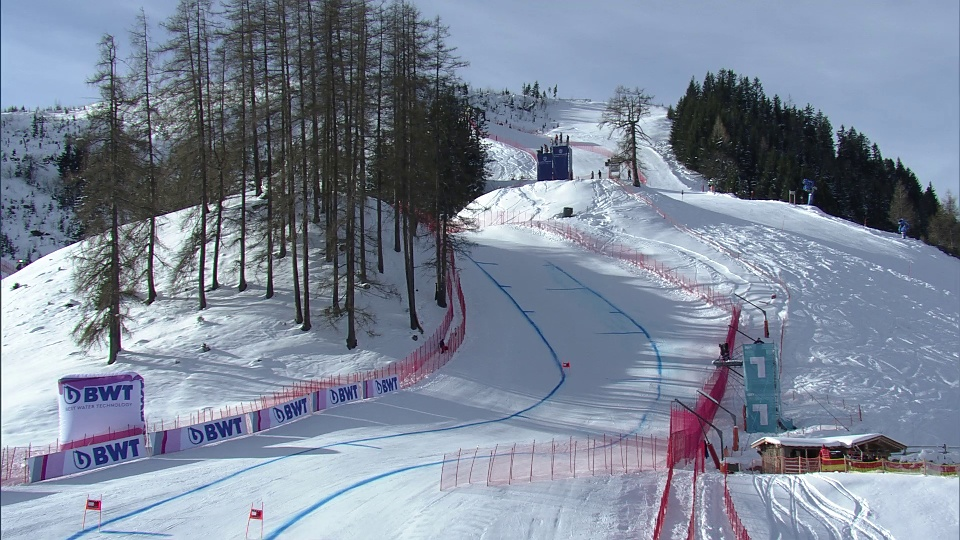BWT: (72, 437, 143, 475), (64, 380, 138, 415), (187, 417, 247, 451), (271, 397, 310, 430), (329, 385, 366, 410), (375, 377, 399, 398)
